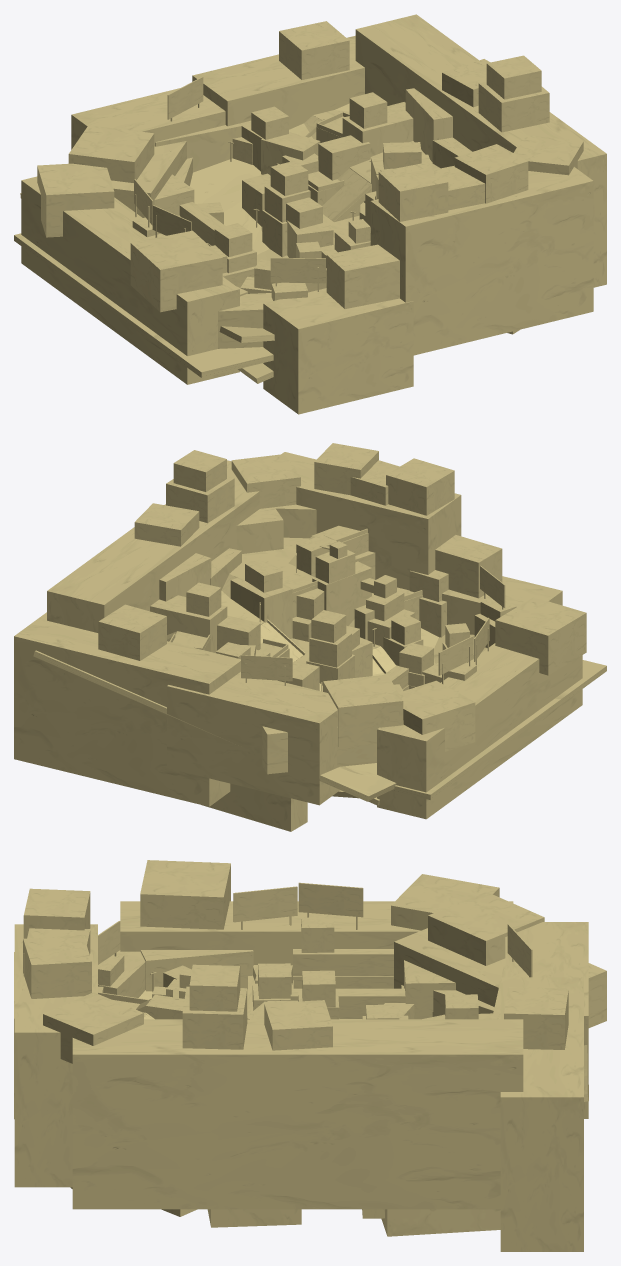
3 renders of one model, top to bottom at view 1: azimuth 30°, elevation 25°; view 2: azimuth 150°, elevation 25°; view 3: azimuth 270°, elevation 25°, orthographic. The views are drawn at different scales.
Visible parts, largest first — view 1: Ld_Greyblocks; view 2: Ld_Greyblocks; view 3: Ld_Greyblocks.
Part boxes in pixels (bbox=[...]): Ld_Greyblocks: bbox=[14, 14, 606, 414]; Ld_Greyblocks: bbox=[14, 443, 606, 831]; Ld_Greyblocks: bbox=[14, 860, 606, 1251].
Size of the model in its own units: 7753 by 4132 by 7931.
